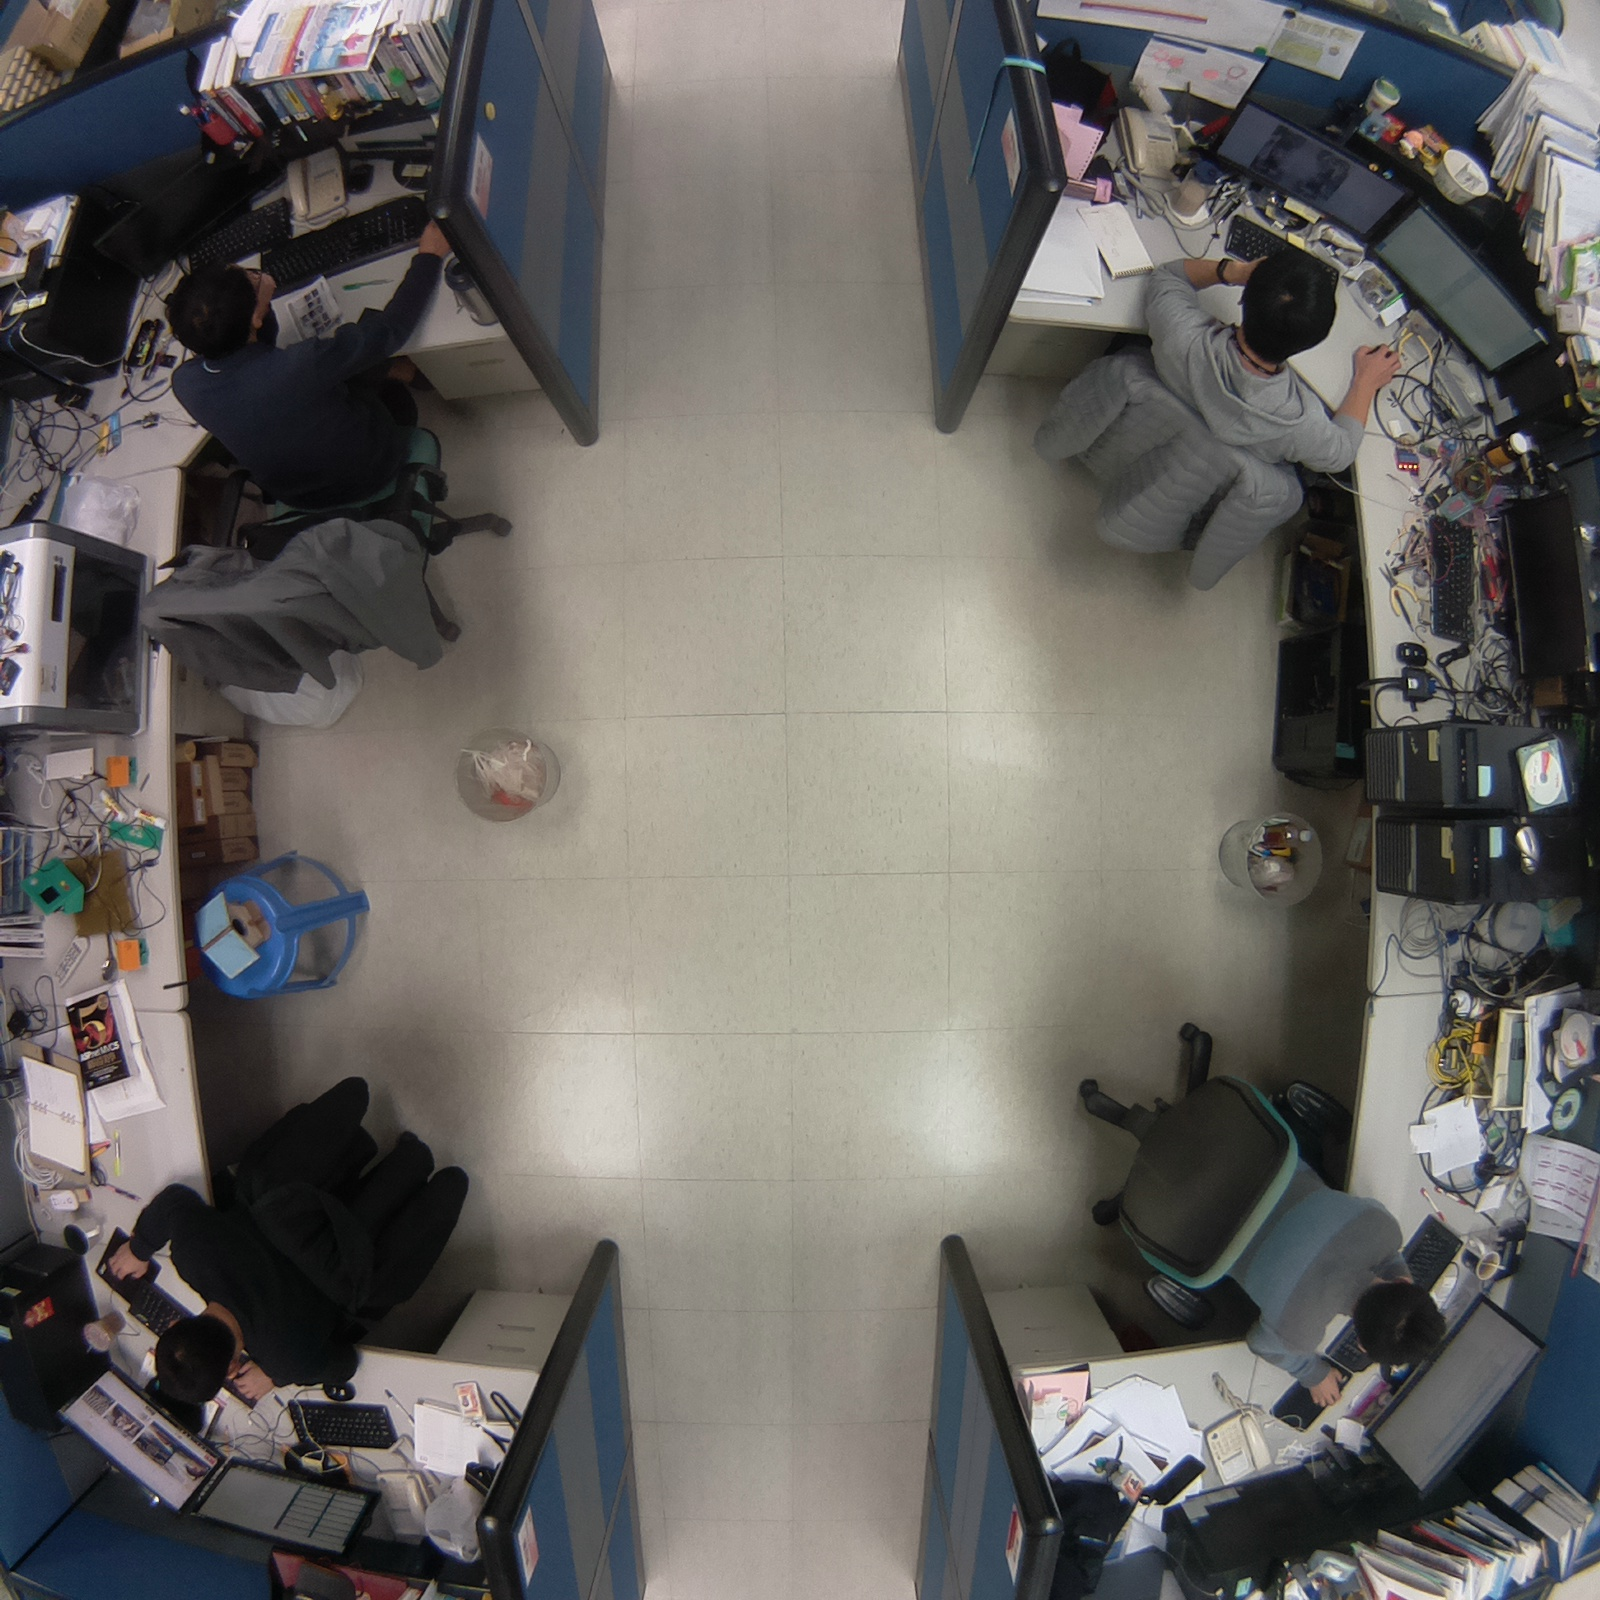head: (157, 255, 287, 370), (1234, 246, 1342, 372), (1344, 1272, 1453, 1382), (142, 1306, 242, 1414)
sitting: (129, 214, 535, 714), (1055, 1004, 1466, 1414), (99, 1047, 509, 1425), (1014, 234, 1403, 619)
